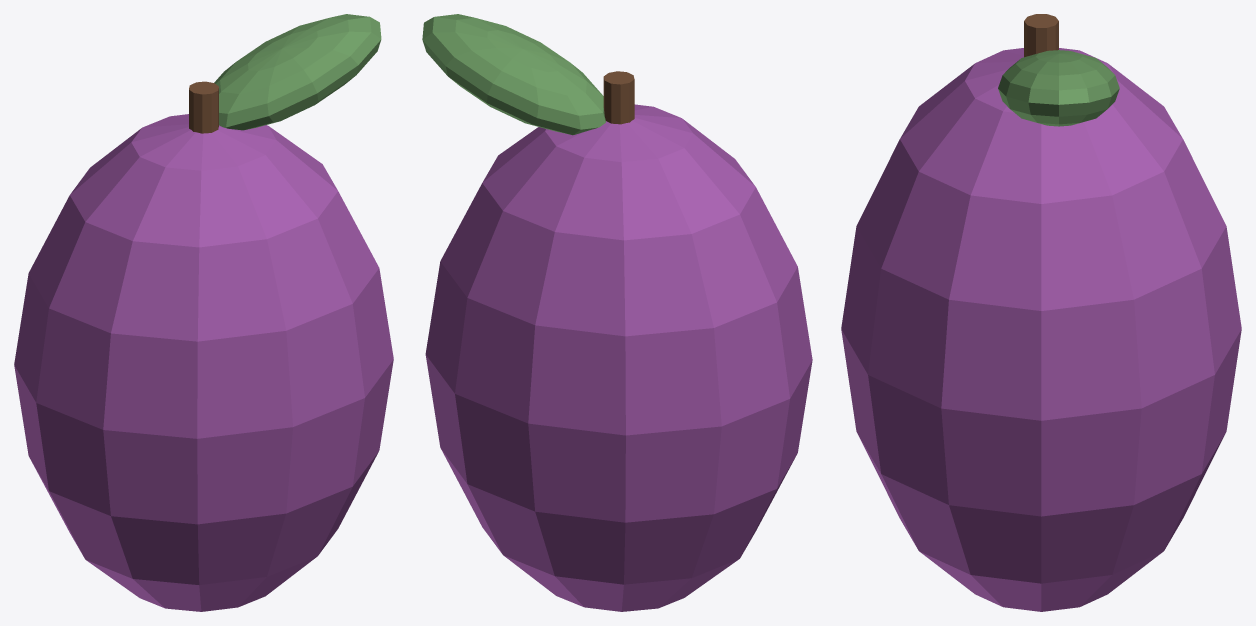
File: plum.glb
The picture shows the model from 3 angles, left to right: view 1: azimuth 30°, elevation 25°; view 2: azimuth 150°, elevation 25°; view 3: azimuth 270°, elevation 25°; orthographic projection. The views are drawn at different scales.
Visible parts, largest first — view 1: Icon_Sphere.001, Icon_Sphere, Icon_Cylinder; view 2: Icon_Sphere.001, Icon_Sphere, Icon_Cylinder; view 3: Icon_Sphere.001, Icon_Sphere, Icon_Cylinder.
Boxes of the visible parts, left/top/right/bottom form: Icon_Sphere.001: left=14, top=114, right=393, bottom=611; Icon_Sphere: left=214, top=14, right=381, bottom=130; Icon_Cylinder: left=189, top=81, right=218, bottom=133; Icon_Sphere.001: left=425, top=104, right=812, bottom=611; Icon_Sphere: left=422, top=14, right=605, bottom=135; Icon_Cylinder: left=603, top=71, right=634, bottom=124; Icon_Sphere.001: left=841, top=48, right=1241, bottom=611; Icon_Sphere: left=998, top=50, right=1119, bottom=126; Icon_Cylinder: left=1024, top=14, right=1058, bottom=57.
Bounding box in the file's own units: 0.5237 × 0.7663 × 0.46.
